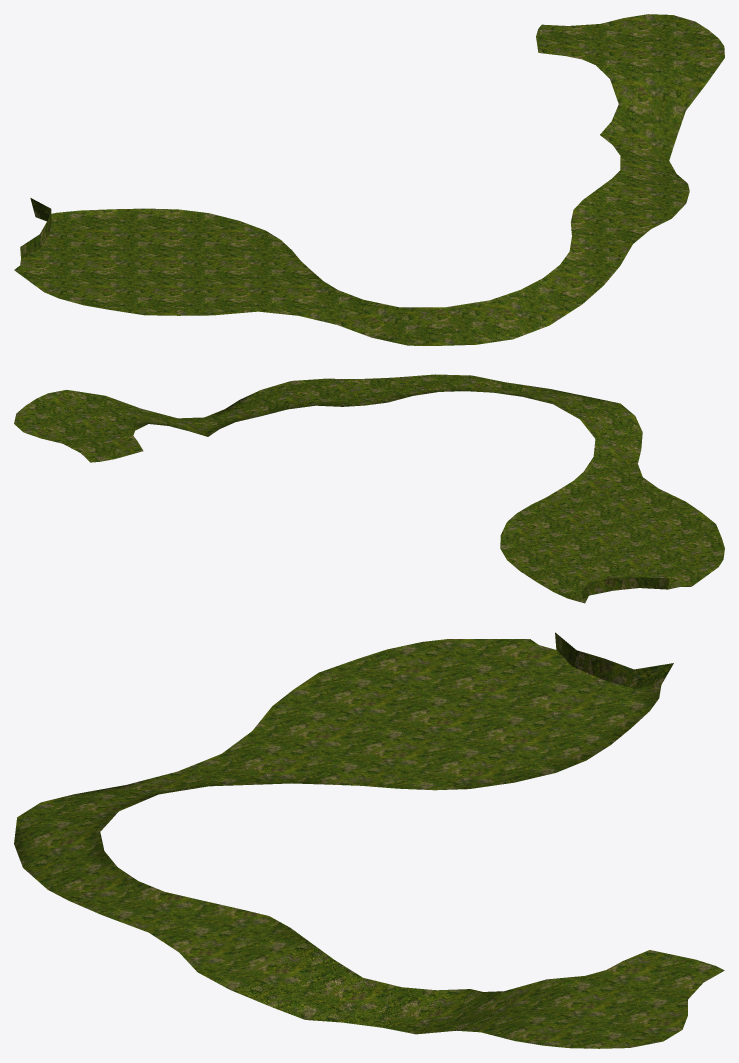
File: OVERHILL_A_01_OH_B_OBJECT50.fbx
3 renders of one model, top to bottom at view 1: azimuth 30°, elevation 25°; view 2: azimuth 150°, elevation 25°; view 3: azimuth 270°, elevation 25°, orthographic. The views are drawn at different scales.
Visible parts, largest first — view 1: OVERHILL_A_01_OH_B_OBJECT50; view 2: OVERHILL_A_01_OH_B_OBJECT50; view 3: OVERHILL_A_01_OH_B_OBJECT50.
Boxes of the visible parts, bbox=[...] form: OVERHILL_A_01_OH_B_OBJECT50: bbox=[14, 14, 724, 345]; OVERHILL_A_01_OH_B_OBJECT50: bbox=[14, 374, 724, 603]; OVERHILL_A_01_OH_B_OBJECT50: bbox=[14, 632, 724, 1048].
Bounding box in the file's own units: 317308 × 22570 × 202275.
2 materials, 2 textured.
